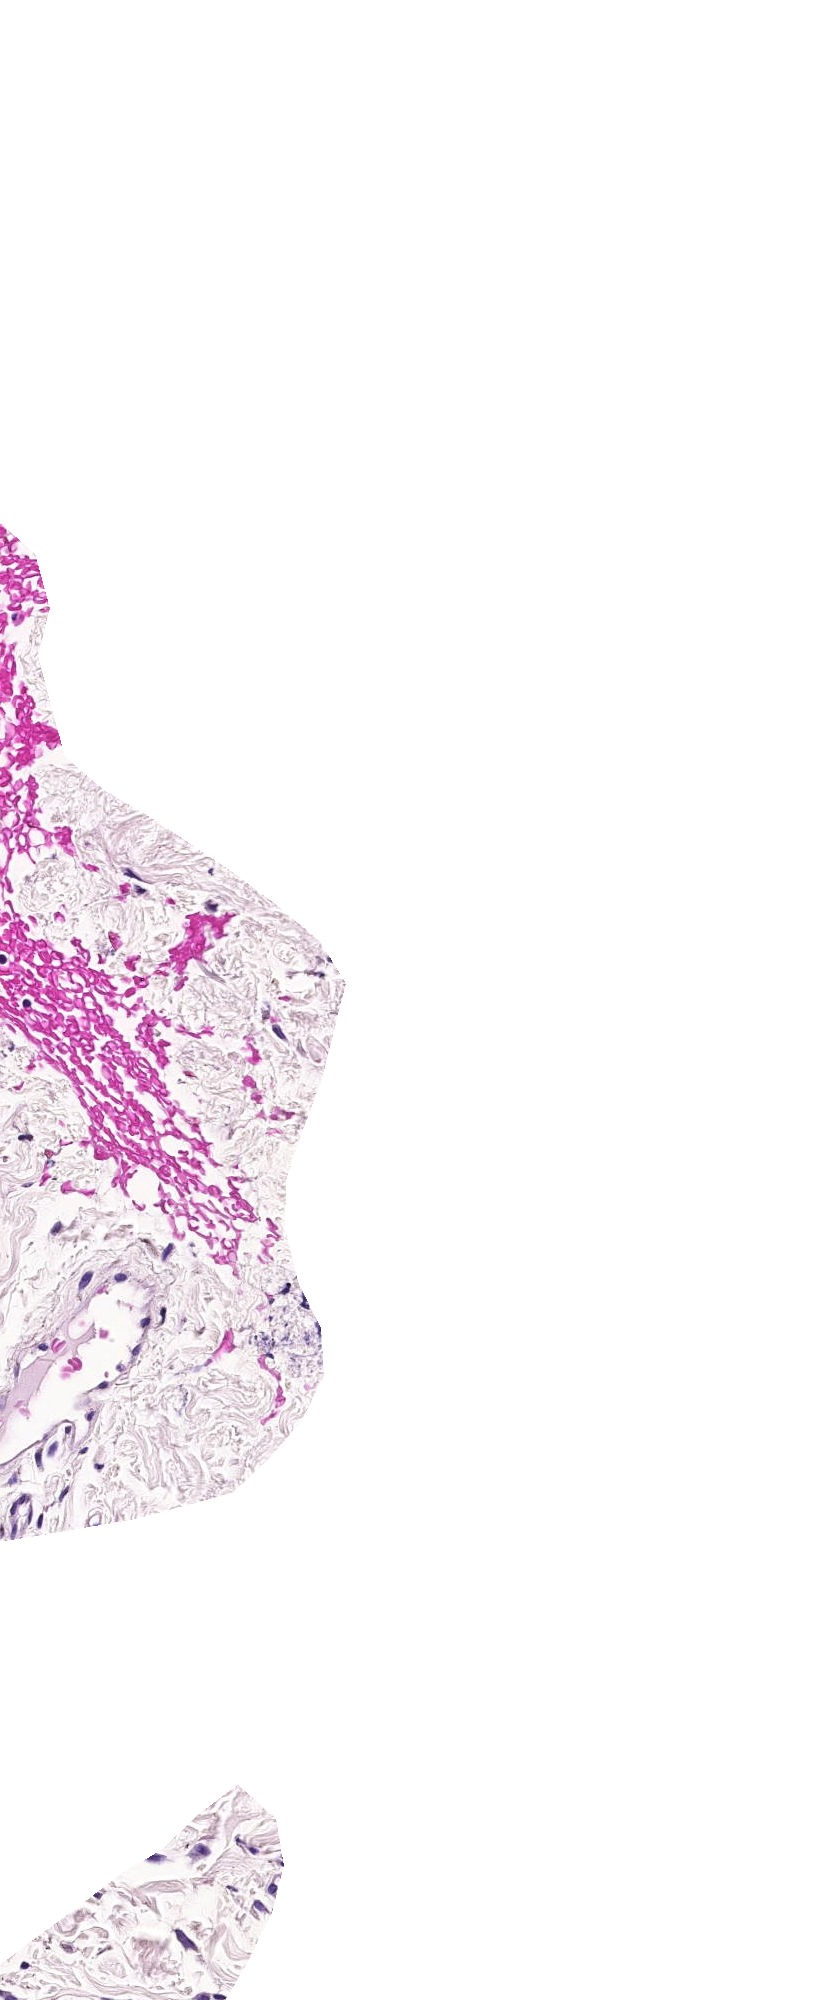fibroblast and endothelial: (178, 1935, 184, 1943), (20, 1496, 25, 1501), (275, 1031, 280, 1034), (99, 1383, 105, 1386), (116, 1277, 122, 1279), (11, 1529, 14, 1536), (88, 1415, 91, 1418), (62, 1491, 66, 1494), (84, 1277, 85, 1283), (250, 1851, 255, 1852), (126, 872, 130, 874), (135, 1349, 136, 1353), (80, 1452, 84, 1453), (284, 1290, 286, 1293), (272, 1886, 273, 1890), (256, 1904, 260, 1906), (162, 1310, 163, 1312), (142, 1321, 144, 1323), (66, 1429, 68, 1430)
inflammatory: (11, 616, 15, 619), (1, 955, 3, 960), (24, 1001, 25, 1004)
lymphocyte: (22, 1963, 25, 1968)
